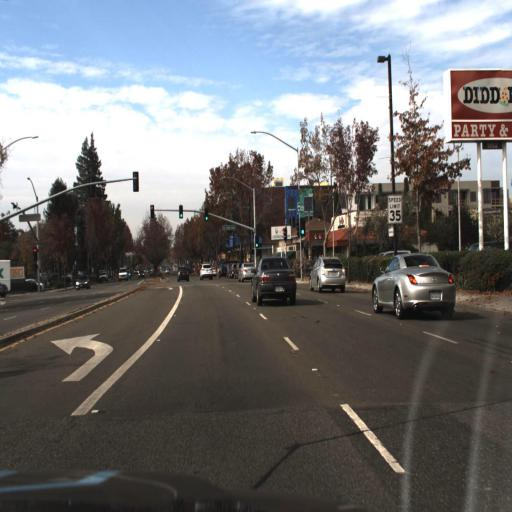car: (372, 257, 460, 317), (248, 254, 298, 306), (309, 255, 348, 295), (236, 256, 253, 289), (70, 270, 89, 292), (197, 260, 216, 282), (172, 264, 189, 288), (115, 264, 133, 284)
trafficLight-Green: (298, 216, 307, 240), (200, 209, 209, 230), (253, 236, 261, 256), (176, 206, 183, 224)
trafficLight-Red: (149, 199, 157, 221)
